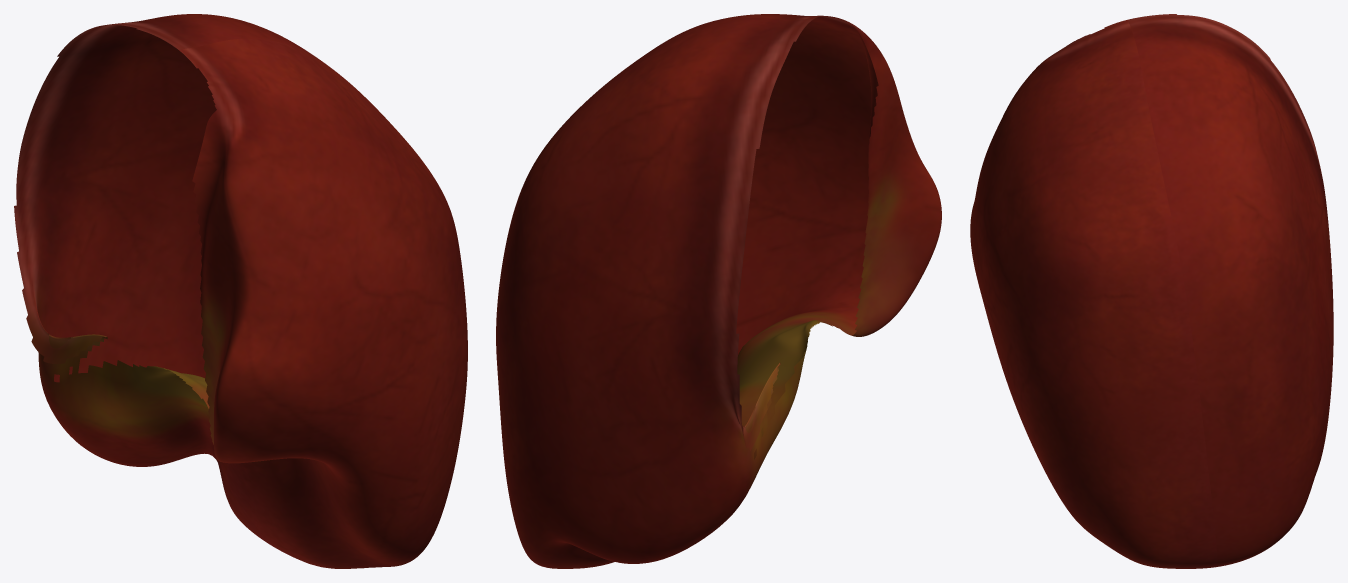
File: Lobulo_Derecho.FBX
3 renders of one model, left to right at view 1: azimuth 30°, elevation 25°; view 2: azimuth 150°, elevation 25°; view 3: azimuth 270°, elevation 25°, orthographic. The views are drawn at different scales.
Parts seen in each view (by area): view 1: Fetge; view 2: Fetge; view 3: Fetge.
Part boxes in pixels (<box>): Fetge: <box>14,14,467,568</box>; Fetge: <box>496,14,941,568</box>; Fetge: <box>970,14,1333,568</box>.
Size of the model in its own units: 32.32 by 55.68 by 39.29.
Materials: 1 (1 with a texture image).
